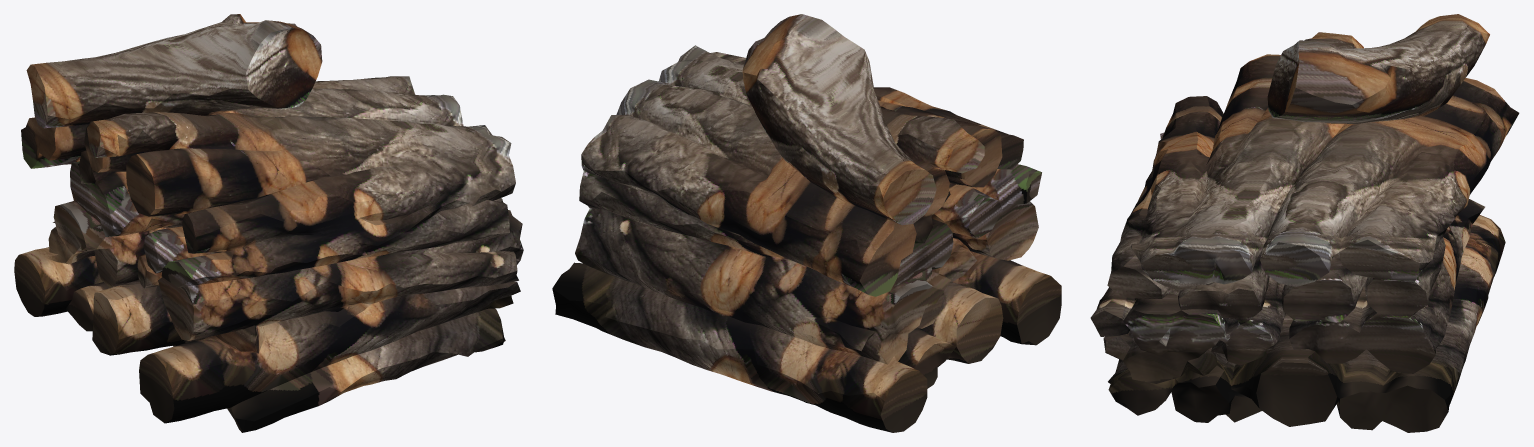
Rendered from pyre.glb.
3 views of the same model, side by side, from view 1: azimuth 30°, elevation 25°; view 2: azimuth 150°, elevation 25°; view 3: azimuth 270°, elevation 25° (orthographic). The views are drawn at different scales.
Visible parts, largest first — view 1: geometry_0; view 2: geometry_0; view 3: geometry_0.
Boxes of the visible parts, x1,y1,x2,y2 form: geometry_0: (14, 14, 523, 432); geometry_0: (552, 14, 1061, 432); geometry_0: (1090, 14, 1519, 432).
Size of the model in its own units: 3.47 by 3 by 3.49.
Materials: 1 (1 with a texture image).
